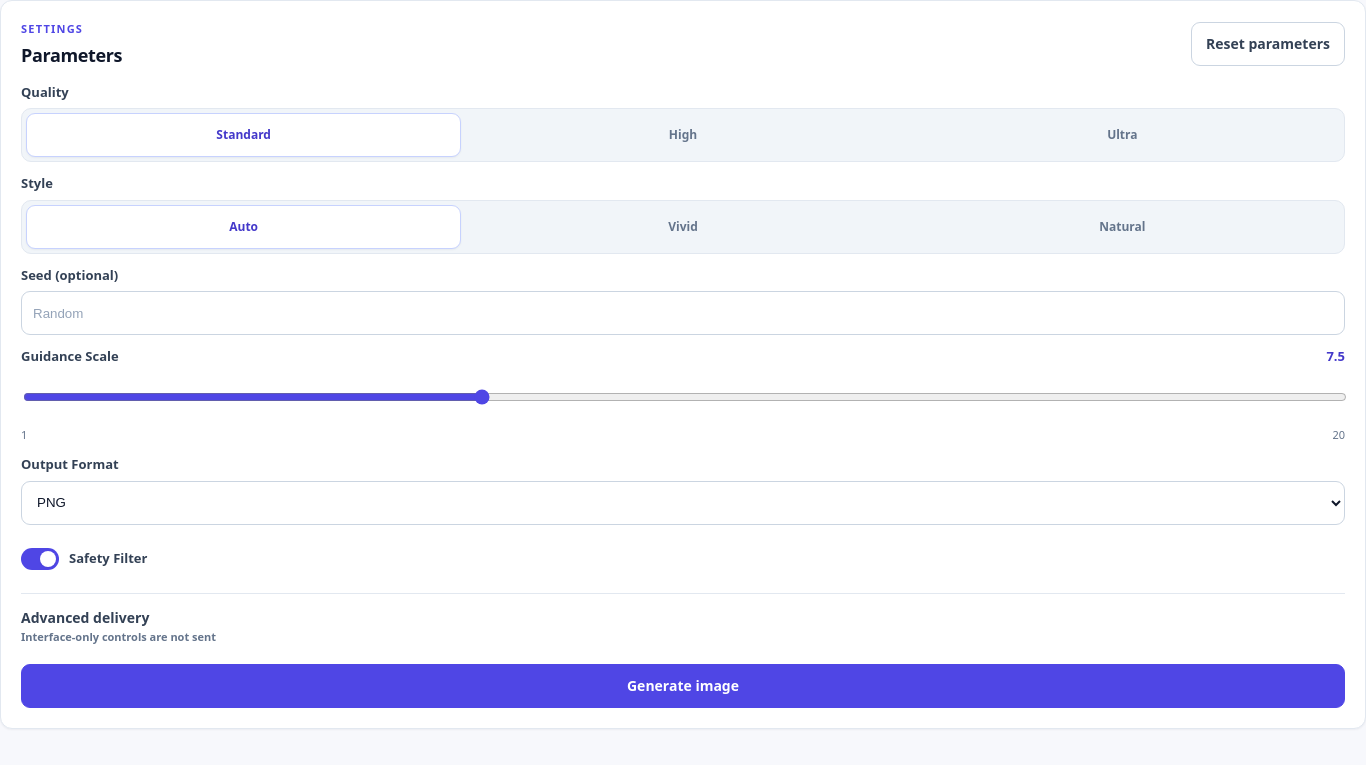
ParameterPanel › keeps real quality, count, and delivery in connected state
This screenshot has width=1366, height=765.
Click the button "Ultra".
click(1122, 135)  # box 905,113 -> 1340,157
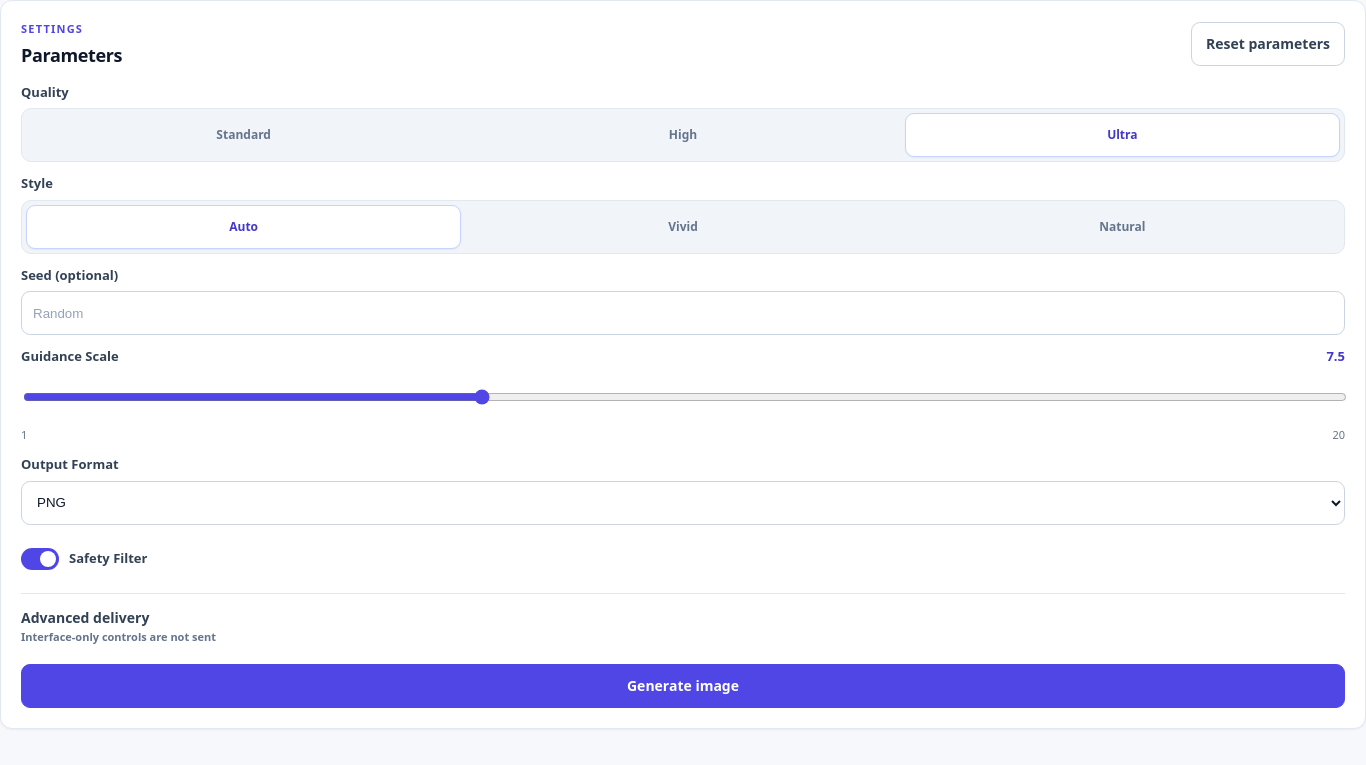
Click the button "High".
click(683, 135)  # box 465,113 -> 901,157
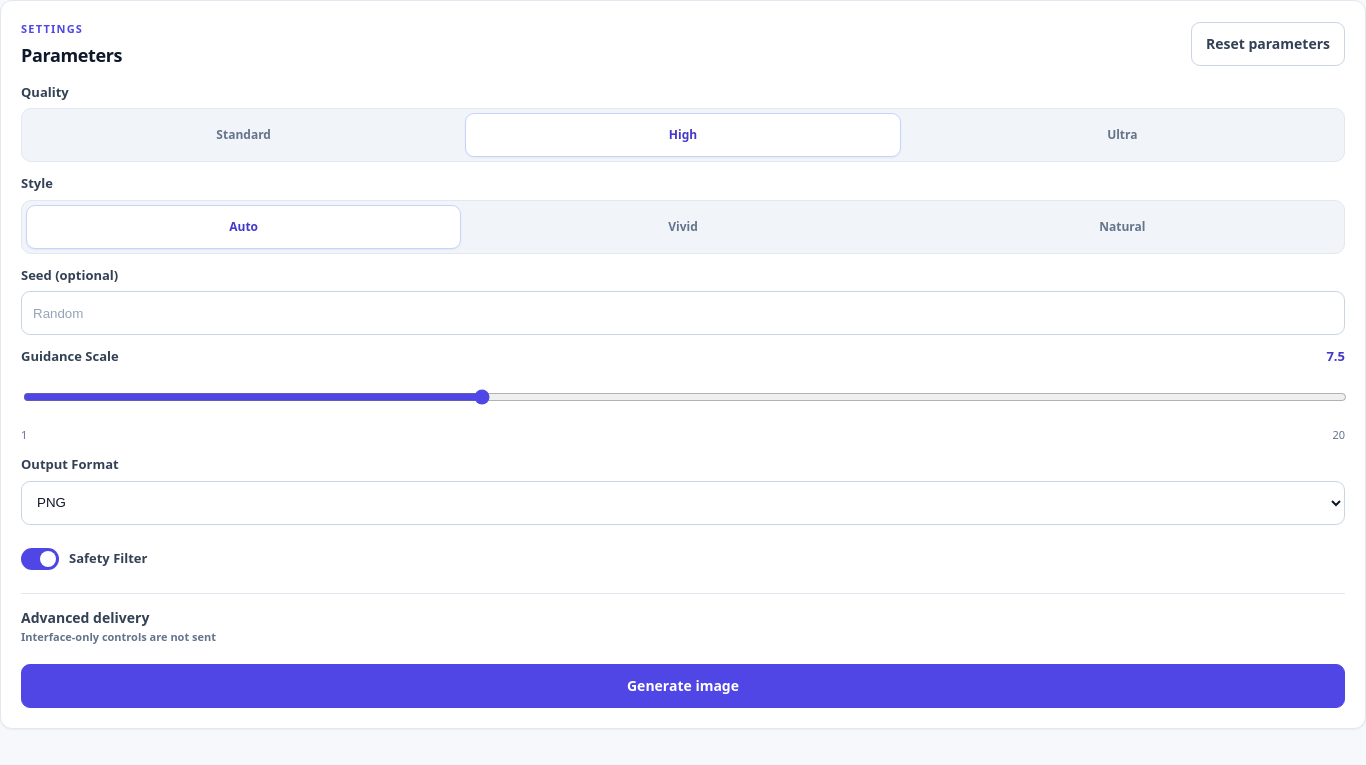
Click the text "Advanced delivery".
click(85, 618)  # box 21,608 -> 149,627
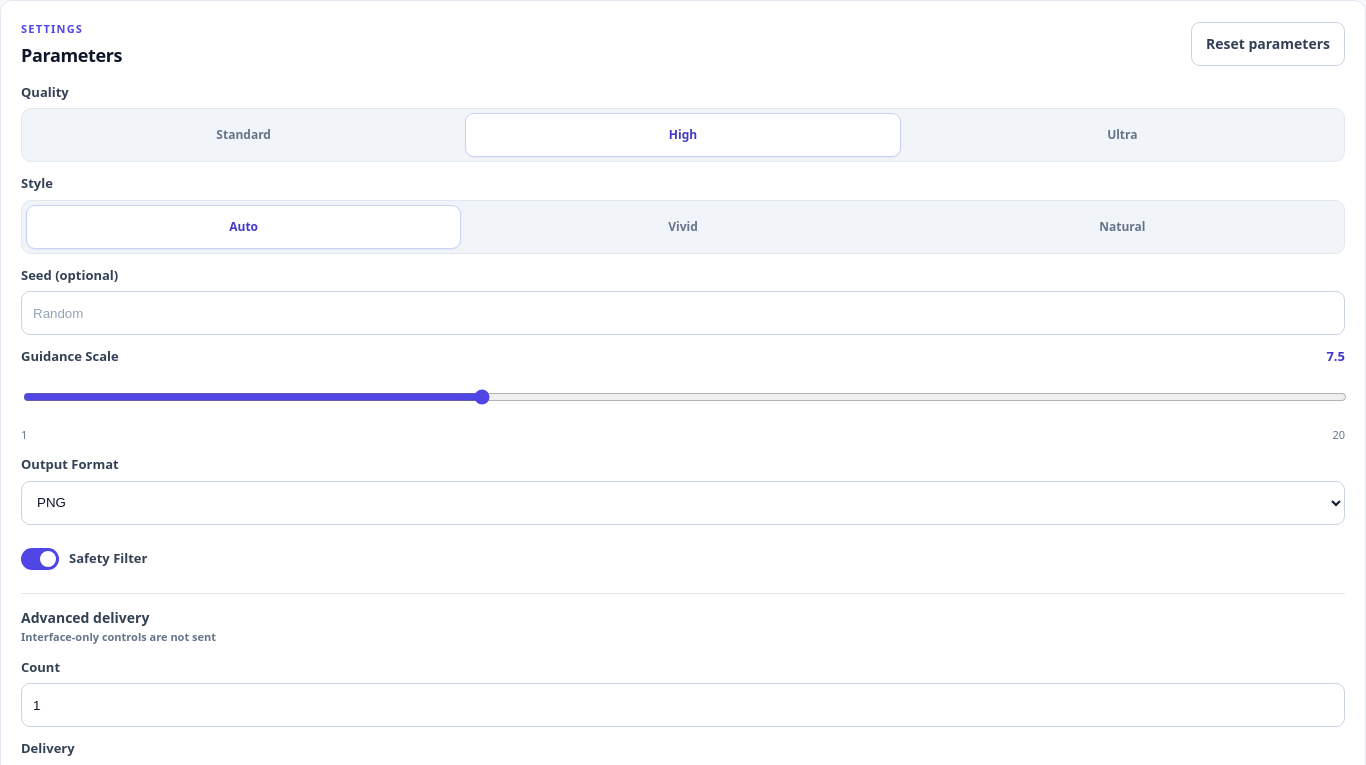
Replace the text in the number field labelled "Count" with "4" at (683, 705), box 21,683 -> 1345,727
(page scrolled)
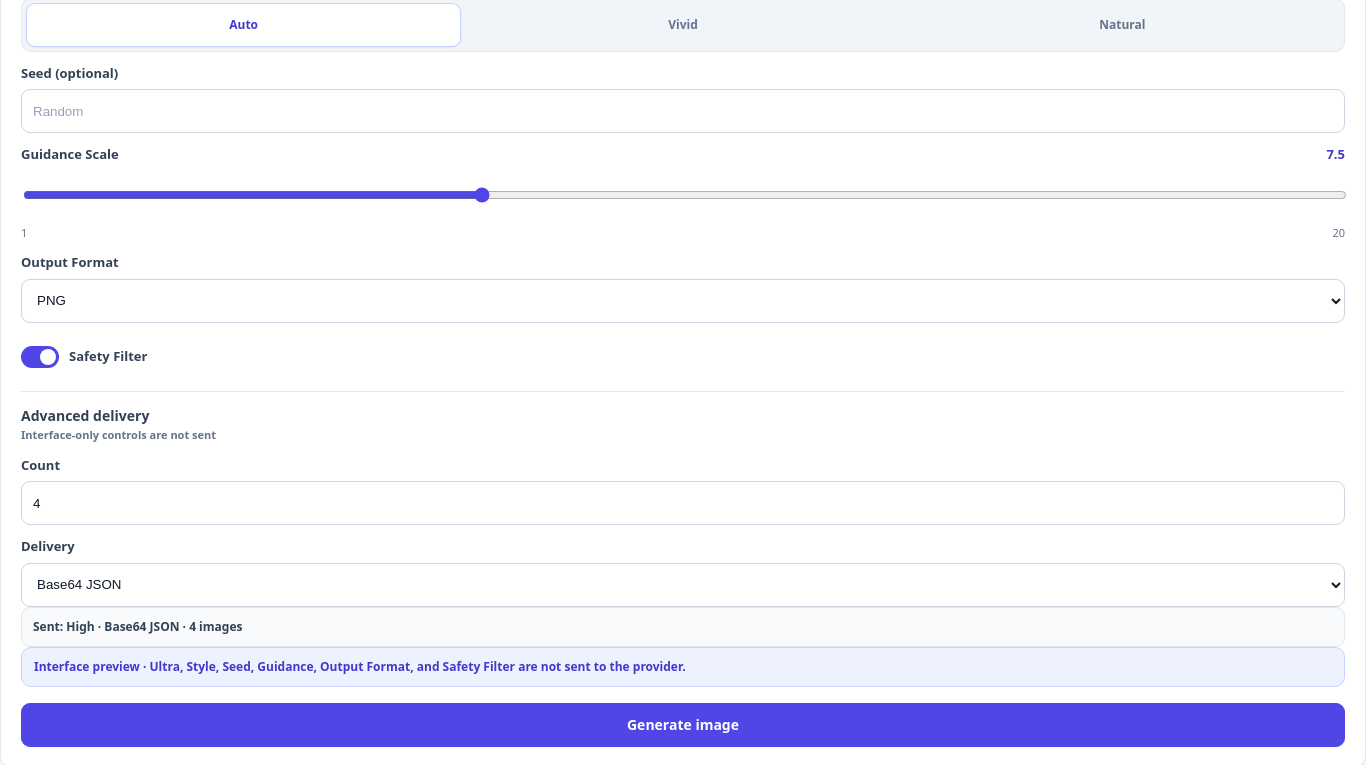
Select "Provider URL" in the dropdown labelled "Delivery" at (683, 585), box 21,563 -> 1345,607
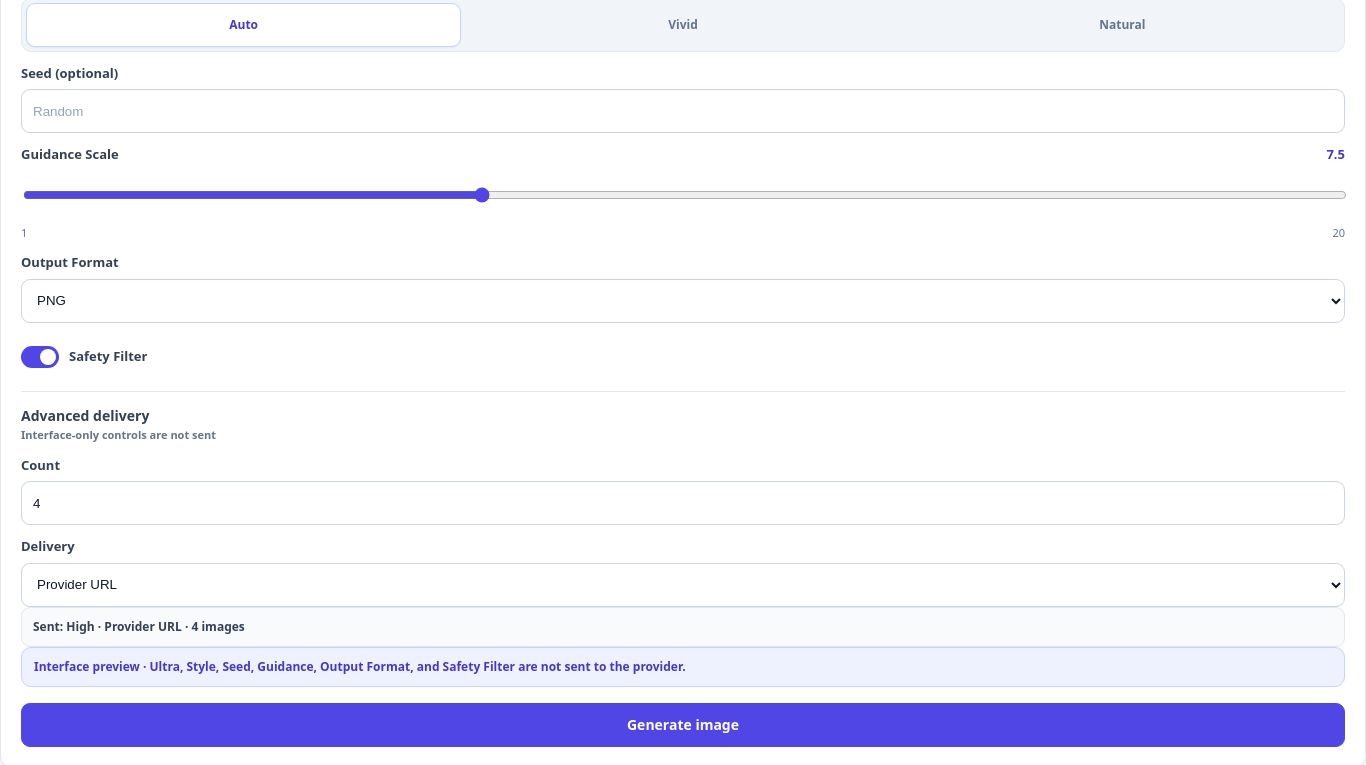
Result: the text "Sent: High · Provider URL · 4 images" is shown at 21,607 -> 1345,647
